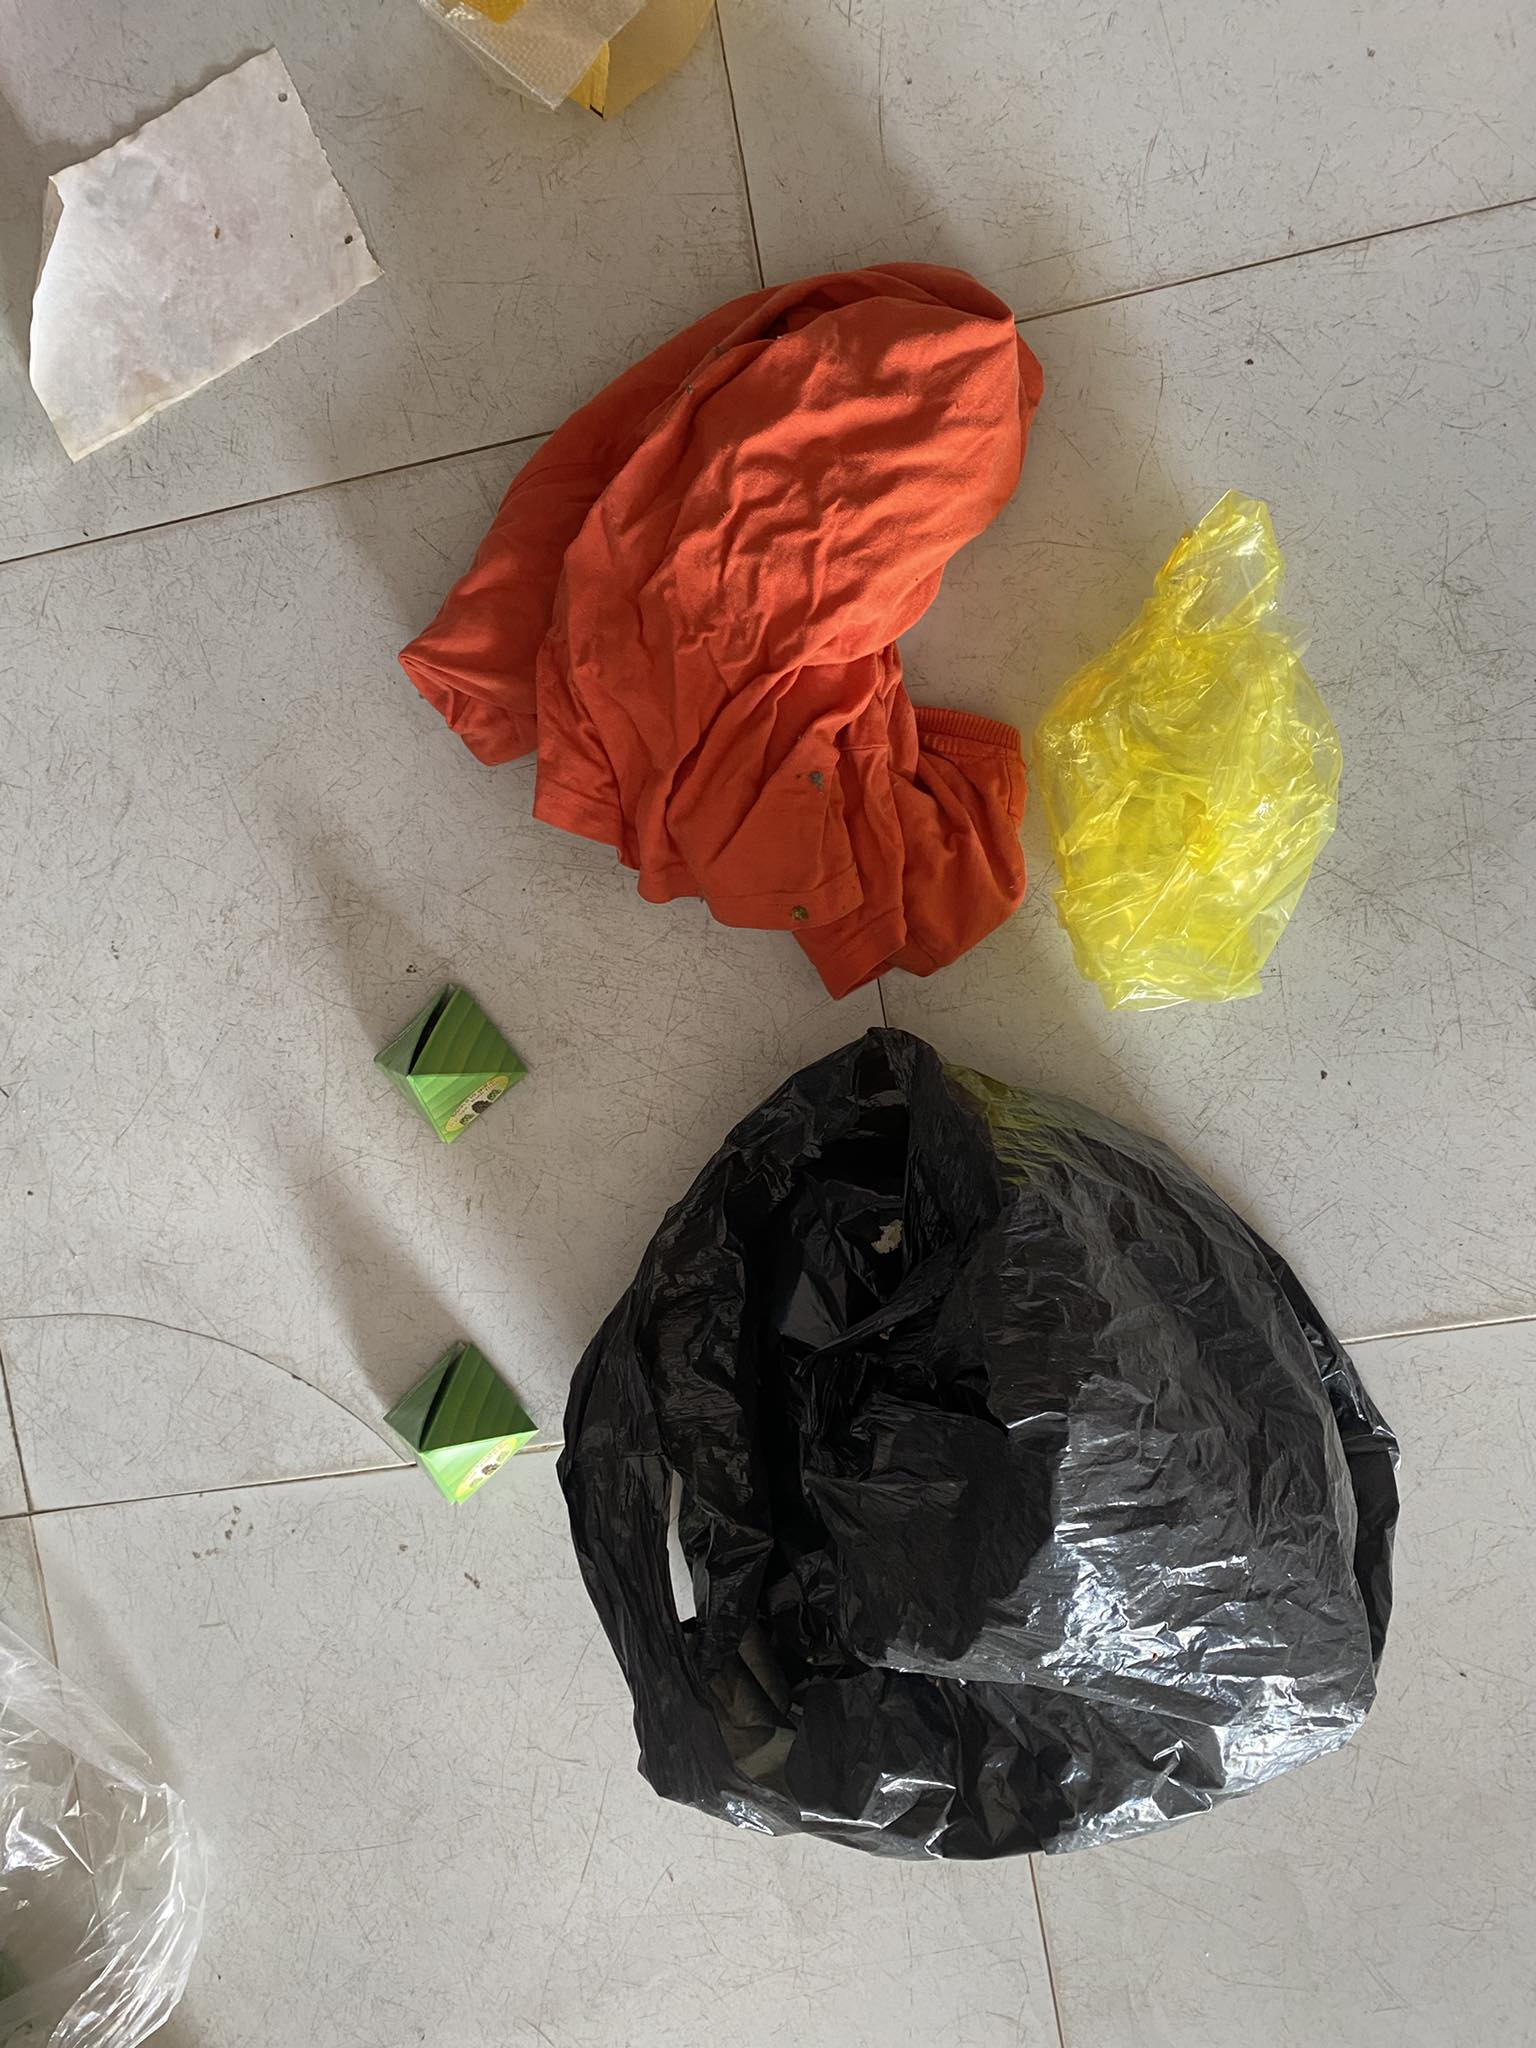cardboard: (350, 1317, 552, 1530), (350, 968, 541, 1169)
clothes: (392, 210, 1042, 997)
paper: (0, 56, 426, 481)
plastic bag: (537, 1016, 1442, 1850), (1016, 476, 1367, 1063), (373, 0, 712, 126)
